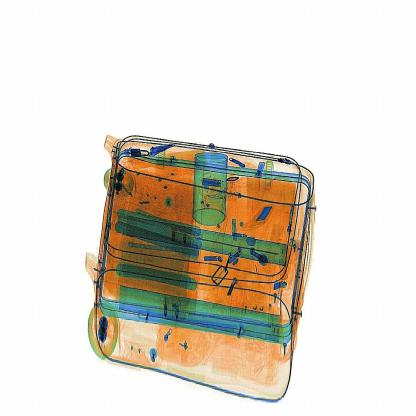pliers: (242, 196, 284, 236)
